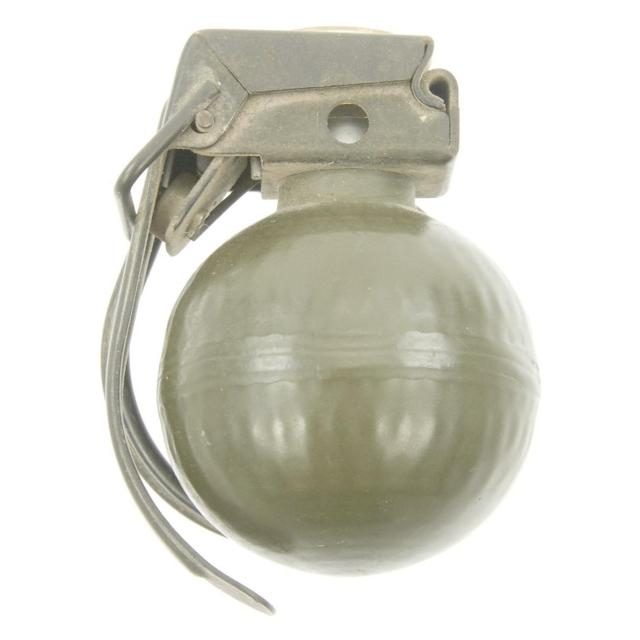grenade: (101, 27, 543, 616)
